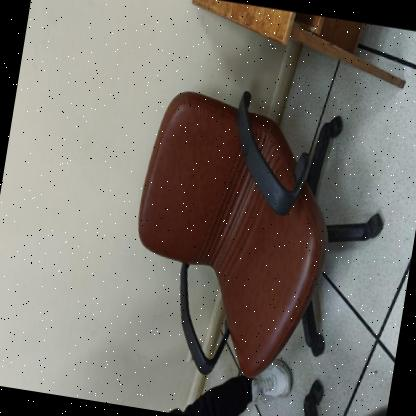chair: (109, 73, 404, 405)
